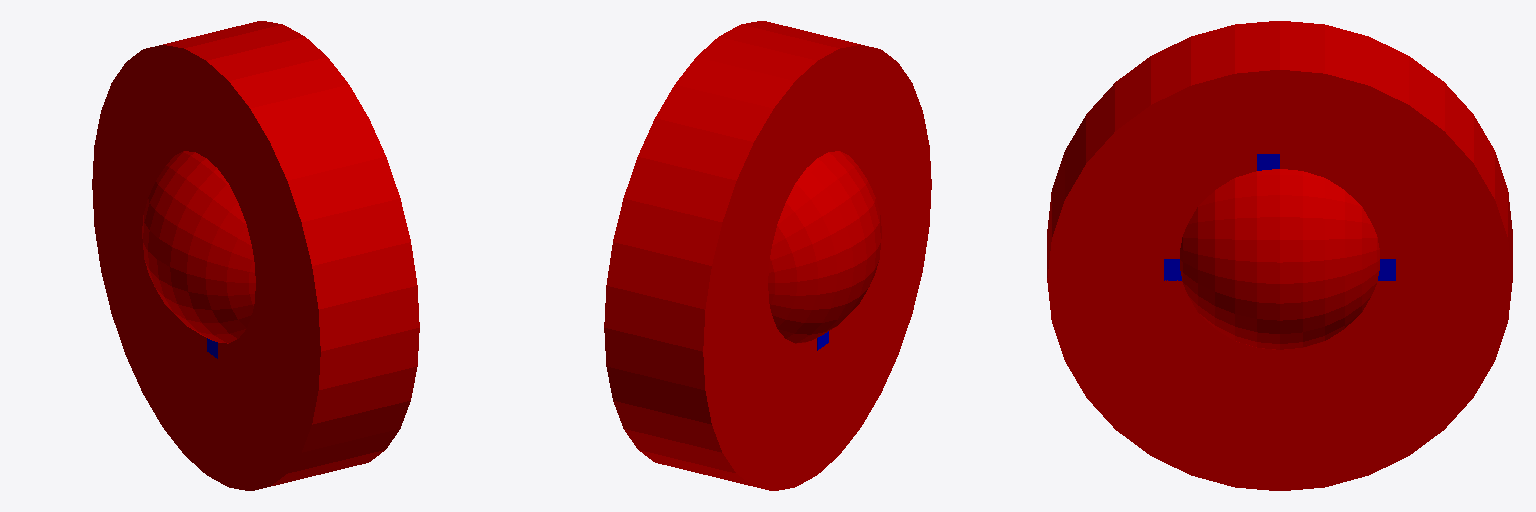
The robot description file, URDF, robot "TwoLinkStruct8634810092":
<?xml version="1.0"?>
<robot  name="TwoLinkStruct8634810092" >
 <material  name="blue" >
  <color  rgba="0 0 0.8 1.0" />
 </material>
 <material  name="red" >
  <color  rgba="0.8 0 0 1.0" />
 </material>
 <link  name="base_link" >
  <visual >
   <origin  rpy="0 1.5707 0"  xyz="0 0 0" />
   <material  name="red" />
   <geometry >
    <cylinder  length="0.05"  radius="0.1" />
   </geometry>
  </visual>
 </link>
 <joint  type="revolute"  name="joint1" >
  <parent  link="base_link" />
  <child  link="link1" />
  <origin  xyz="0 0 0"  rpy="0 0 0" />
  <axis  xyz="1 0 0" />
 </joint>
 <link  name="link1" >
  <inertial >
   <origin  rpy="0 0 0"  xyz="0 0 0.005" />
   <mass  value="0.02680814266204834" />
   <inertia  ixy="0.0"  iyy="1.1170059442520143e-05"  izz="5.808430910110474e-06"  ixz="0.0"  ixx="5.808430910110474e-06"  iyz="0.0" />
  </inertial>
  <visual >
   <origin  rpy="0 0 0"  xyz="0 0 0.005" />
   <material  name="blue" />
   <geometry >
    <box  size="0.05 0.1 0.01" />
   </geometry>
  </visual>
 </link>
 <joint  type="fixed"  name="joint-joint-1" >
  <parent  link="link1" />
  <child  link="joint-link-1" />
  <origin  xyz="0 0 0.01"  rpy="1.5707 0 0" />
  <axis  xyz="1 0 0" />
 </joint>
 <link  name="joint-link-1" >
  <inertial >
   <origin  rpy="0 0 0"  xyz="0 0 0" />
   <mass  value="4.047320876523432" />
   <inertia  ixy="0"  iyy="0"  izz="0"  ixz="0"  ixx="0"  iyz="0" />
  </inertial>
  <visual >
   <origin  rpy="0 0 0"  xyz="0 0 0" />
   <material  name="red" />
   <geometry >
    <sphere  radius="0.05" />
   </geometry>
  </visual>
 </link>
 <joint  type="revolute"  name="joint2" >
  <parent  link="link1" />
  <child  link="link2" />
  <origin  xyz="0 0 0.01"  rpy="1.5707 0 0" />
  <axis  xyz="1 0 0" />
 </joint>
 <link  name="link2" >
  <inertial >
   <origin  rpy="0 0 0"  xyz="0 0 0.005" />
   <mass  value="0.02680814266204834" />
   <inertia  ixy="0.0"  iyy="1.1170059442520143e-05"  izz="5.808430910110474e-06"  ixz="0.0"  ixx="5.808430910110474e-06"  iyz="0.0" />
  </inertial>
  <visual >
   <origin  rpy="0 0 0"  xyz="0 0 0.005" />
   <material  name="blue" />
   <geometry >
    <box  size="0.05 0.1 0.01" />
   </geometry>
  </visual>
 </link>
 <joint  type="fixed"  name="eef_joint" >
  <parent  link="link2" />
  <child  link="eef" />
  <origin  xyz="0 0 0.01"  rpy="0 0 0" />
 </joint>
 <link  name="eef" >
  <inertial >
   <origin  rpy="0 0 0"  xyz="0 0 0" />
   <mass  value="1" />
   <inertia  ixy="0"  iyy="0"  izz="0"  ixz="0"  ixx="0"  iyz="0" />
  </inertial>
 </link>
 <transmission  name="motor1" >
  <type  xmltext="SimpleTransmission" >
   SimpleTransmission
  </type>
  <actuator  name="motor1" >
   <mechanicalreduction  xmltext="1" >
    1
   </mechanicalreduction>
  </actuator>
  <joint  name="joint1" />
 </transmission>
 <transmission  name="motor2" >
  <type  xmltext="SimpleTransmission" >
   SimpleTransmission
  </type>
  <actuator  name="motor2" >
   <mechanicalreduction  xmltext="1" >
    1
   </mechanicalreduction>
  </actuator>
  <joint  name="joint2" />
 </transmission>
</robot>

<!-- {'carti': array([-0.1 ,  0.14,  0.85]), 'cartd': array([-0.1 ,  0.32,  1.29]), 'tau_mu': 0.6589474452326003, 'b0': 0.9735947100546071, 'Km': 5.0, 'k_velocity': 21.902731962640523, 'tau_max_m': 5.0, 'omega_max_m': 9000.0, 'gear_ratio': 14.488466890814676, 'Kp': 30.148709749338906, 'Kd': 10.898092822918239, 'm_m': 4.047320876523432, 'l1': 0.01, 'l2': 0.01, 'k1': 1000.0, 'k2': 100991853.13425243, 'k3': 116818453.10324967}-->

--- Render facts (derived) ---
3 views of the same robot in one strip: view 1: azimuth 30°, elevation 25°; view 2: azimuth 150°, elevation 25°; view 3: azimuth 270°, elevation 25° (orthographic).
Model TwoLinkStruct8634810092 with 5 links and 4 joints (2 revolute, 2 fixed), rooted at base_link, posed every joint at zero.
Links seen in each view (by area): view 1: base_link, joint-link-1; view 2: base_link, joint-link-1; view 3: base_link, joint-link-1, link1.
Boxes of the visible links, x1,y1,x2,y2 form: base_link: (92, 21, 419, 490); joint-link-1: (142, 151, 255, 343); base_link: (604, 21, 931, 490); joint-link-1: (768, 151, 881, 343); base_link: (1047, 21, 1512, 490); joint-link-1: (1180, 169, 1379, 349); link1: (1164, 259, 1395, 280).
Bounding box of the posed robot: 0.1 × 0.2 × 0.2 m (x, y, z).
Geometry: primitives only (box / cylinder / sphere), no mesh files.
